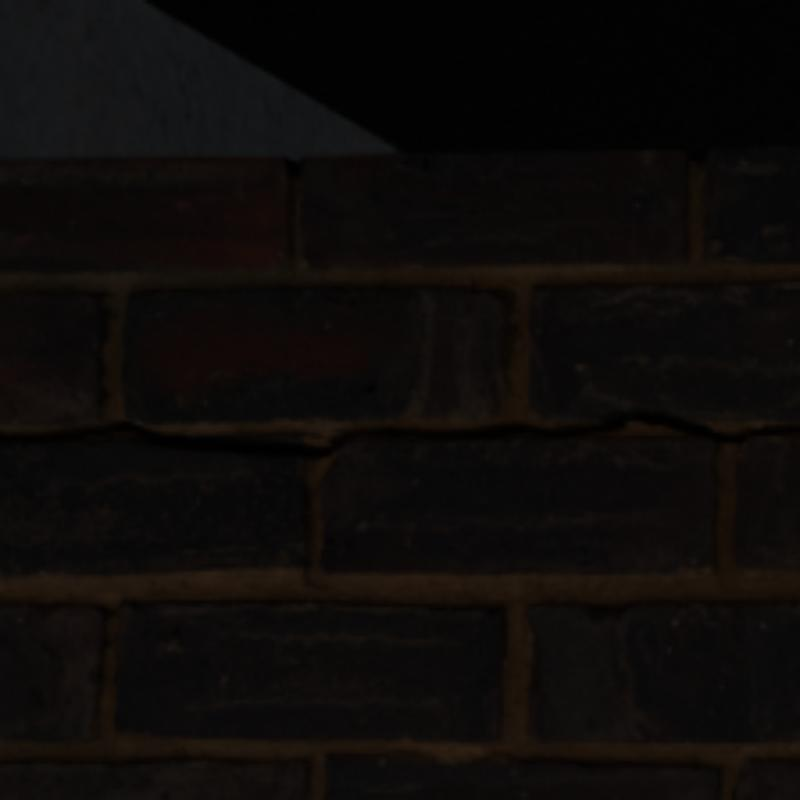pothole: (0, 411, 796, 454)
